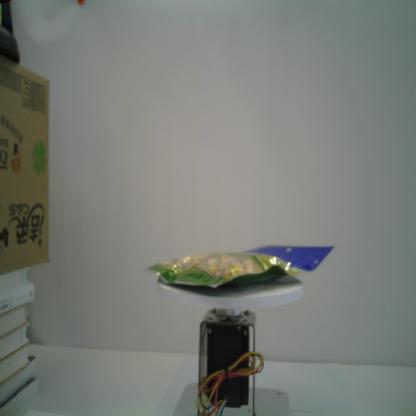Dried Fruit: (142, 240, 338, 292)
